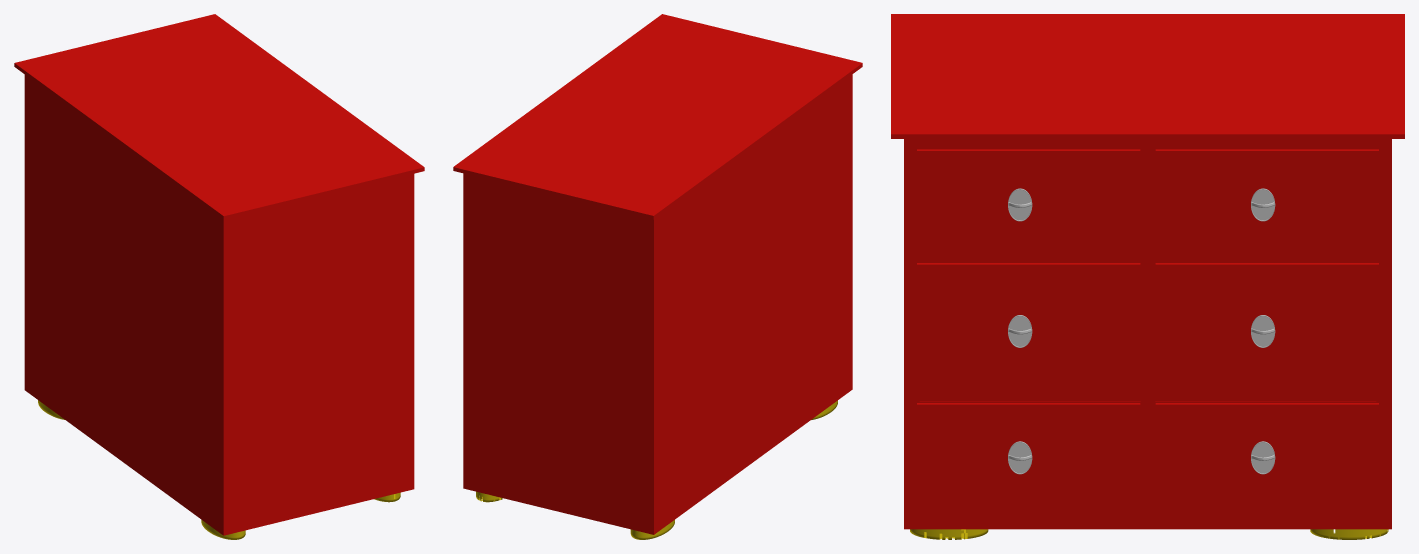
Rendered from Buareau.fbx.
3 views of the same model, side by side, from view 1: azimuth 30°, elevation 25°; view 2: azimuth 150°, elevation 25°; view 3: azimuth 270°, elevation 25° (orthographic). The views are drawn at different scales.
Visible parts, largest first — view 1: Cube; view 2: Cube; view 3: Cube.
Part boxes in pixels (bbox=[...]): Cube: bbox=[14, 14, 424, 539]; Cube: bbox=[453, 14, 862, 539]; Cube: bbox=[891, 14, 1404, 539].
Size of the model in its own units: 119 by 185 by 211.
